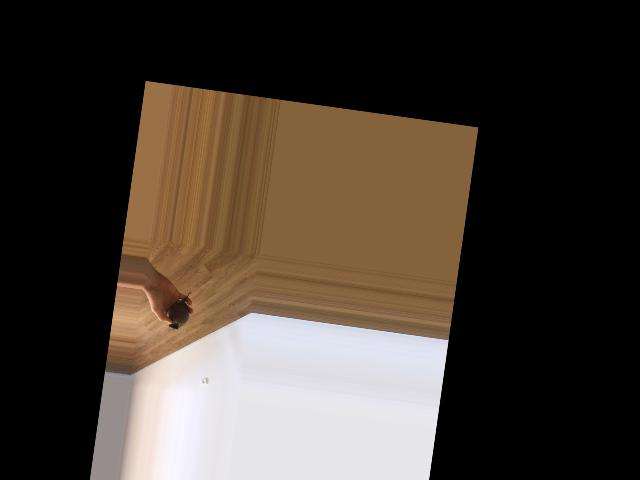beet: (165, 289, 193, 330)
